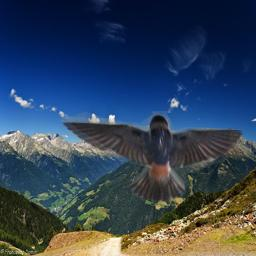Swallow: (56, 111, 246, 203)
